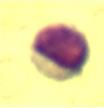lymphocyte: (22, 20, 92, 85)
